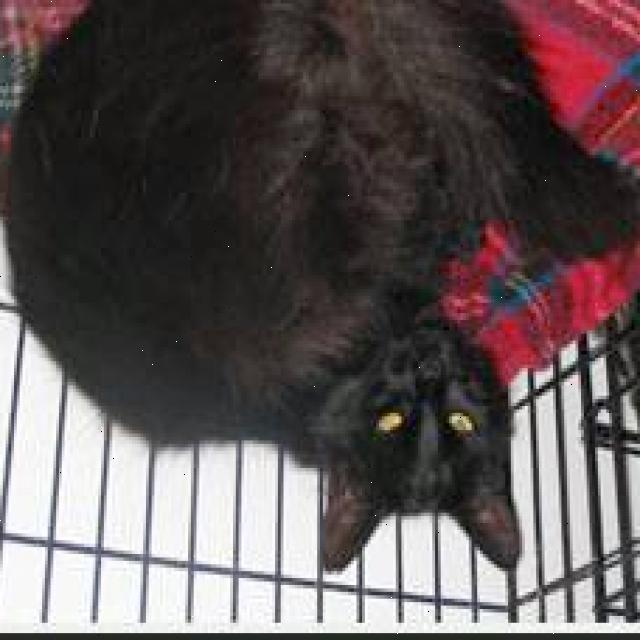Cat: (316, 307, 530, 578)
